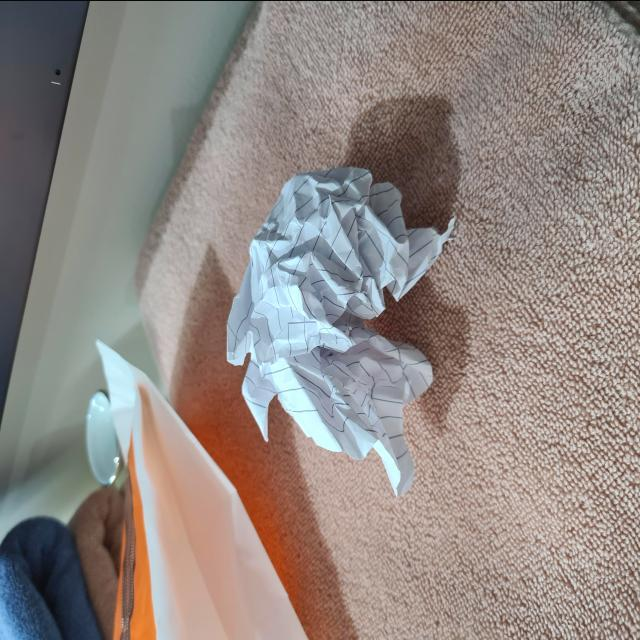Paper: (226, 156, 444, 507)
